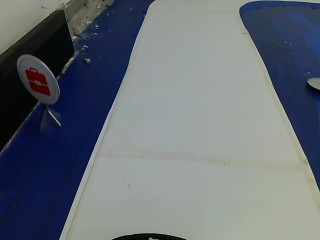company: (13, 53, 59, 106)
